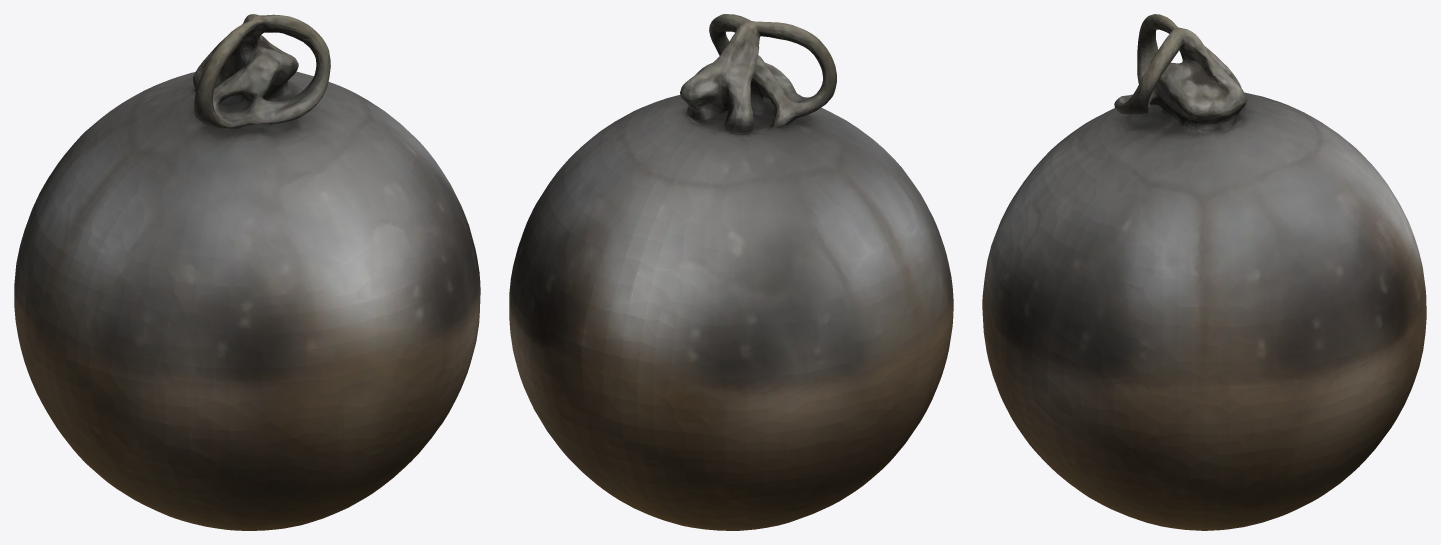
3 views of the same model, side by side, from view 1: azimuth 30°, elevation 25°; view 2: azimuth 150°, elevation 25°; view 3: azimuth 270°, elevation 25° (orthographic). The views are drawn at different scales.
Visible parts, largest first — view 1: world; view 2: world; view 3: world.
Part boxes in pixels (left/top/right/bottom): world: left=14, top=14, right=480, bottom=530; world: left=509, top=14, right=953, bottom=530; world: left=982, top=14, right=1426, bottom=530.
Bounding box in the file's own units: 0.8404 × 0.9984 × 0.84.
Materials: 1 (1 with a texture image).
